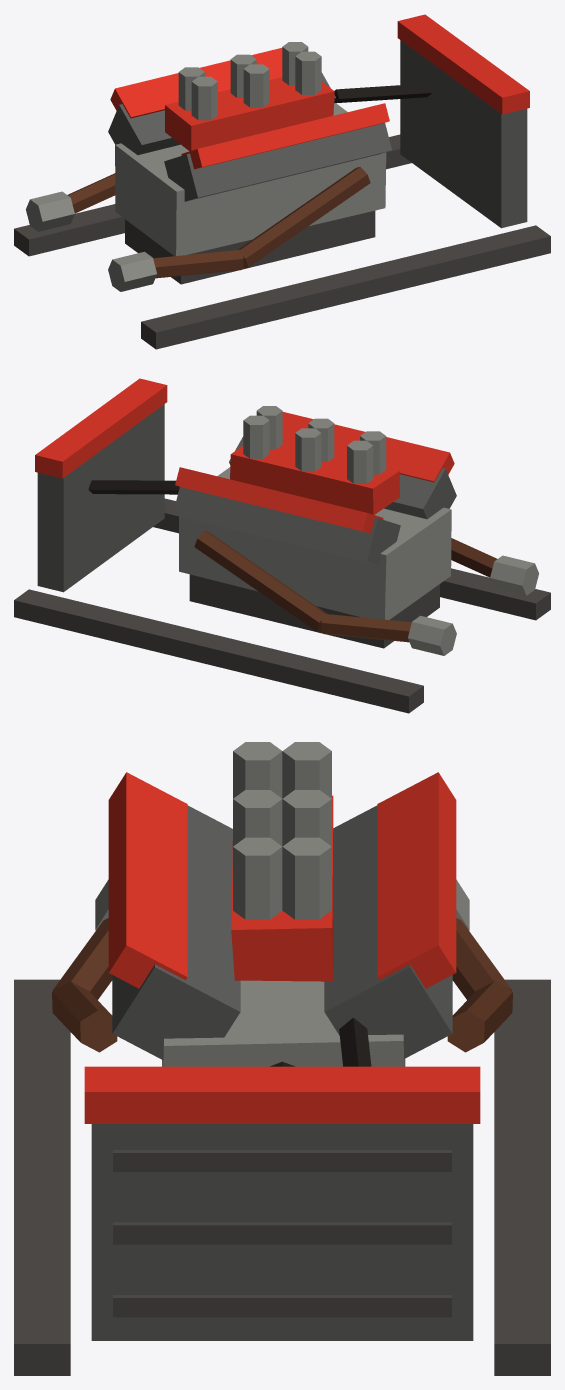
File: eng_racing_v6.glb
The picture shows the model from 3 angles, top to bottom: view 1: azimuth 30°, elevation 25°; view 2: azimuth 150°, elevation 25°; view 3: azimuth 270°, elevation 25°; orthographic projection. The views are drawn at different scales.
Visible parts, largest first — view 1: eng_racing_v6; view 2: eng_racing_v6; view 3: eng_racing_v6.
Part boxes in pixels (left/top/right/bottom): eng_racing_v6: left=14, top=14, right=550, bottom=349; eng_racing_v6: left=14, top=378, right=550, bottom=713; eng_racing_v6: left=14, top=742, right=550, bottom=1375.
Size of the model in its own units: 1.25 by 0.57 by 0.76.
